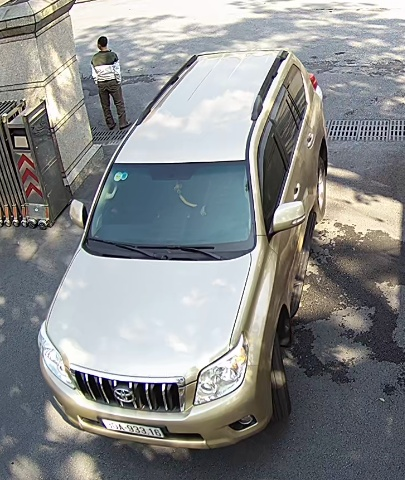vehicle plate: (94, 414, 169, 441)
